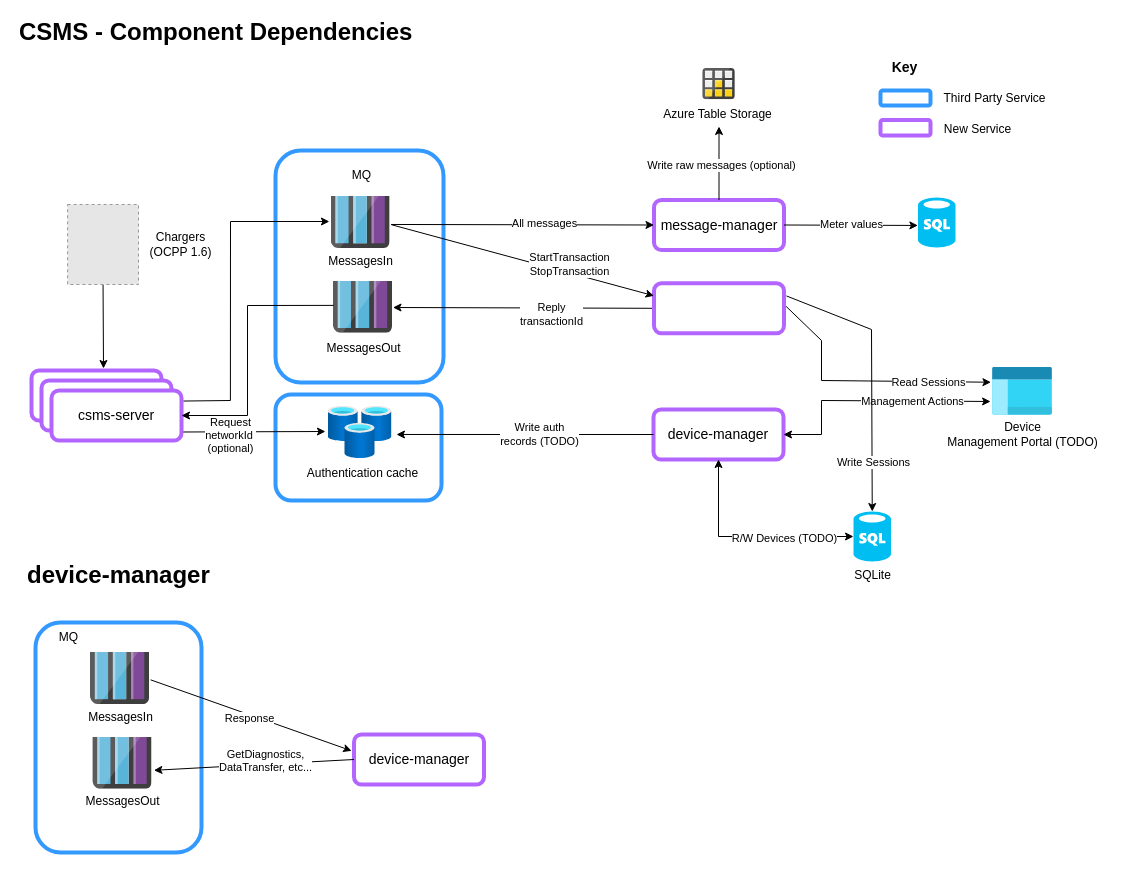
Image size: 1124x871. Some labels were removed from this diagram. Grey dashed boxes stand in for pictures. Here are the shapes that lost their labels. From the top down, the box of each, then its label:
(918, 197, 955, 247): SQLite (TODO)
(652, 281, 786, 335): ocpp-session
